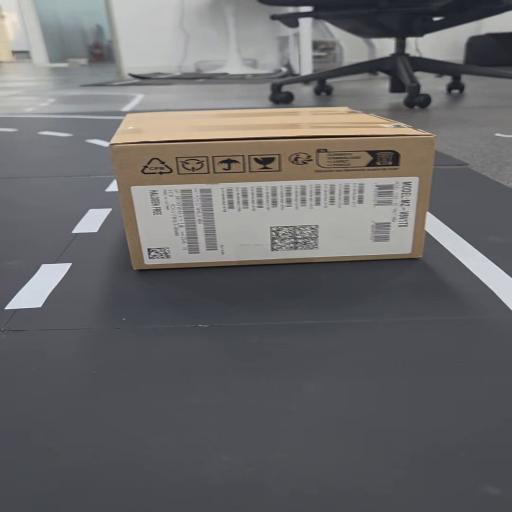Box: (106, 101, 444, 283), (124, 104, 134, 128)
